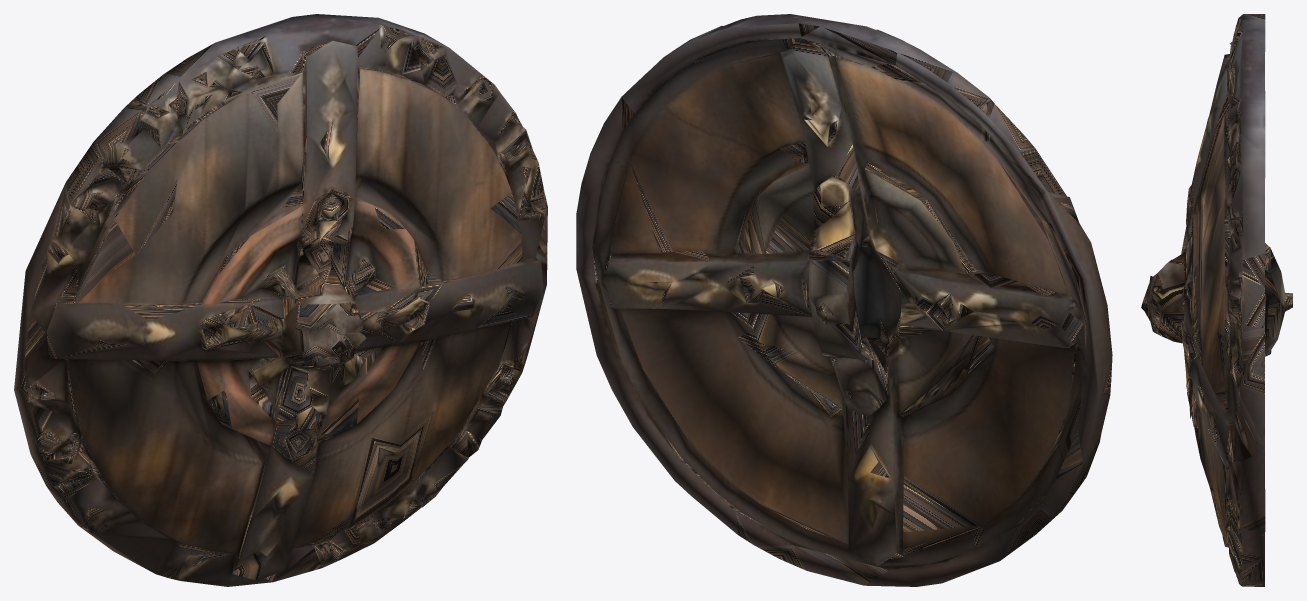
Rendered from 461_s_wood.glb.
The picture shows the model from 3 angles, left to right: view 1: azimuth 30°, elevation 25°; view 2: azimuth 150°, elevation 25°; view 3: azimuth 270°, elevation 25°; orthographic projection. The views are drawn at different scales.
Visible parts, largest first — view 1: Model; view 2: Model; view 3: Model.
Boxes of the visible parts, left/top/right/bottom form: Model: left=14, top=14, right=547, bottom=586; Model: left=576, top=14, right=1112, bottom=586; Model: left=1141, top=14, right=1292, bottom=586.
Size of the model in its own units: 0.9989 by 1 by 0.2652.
1 material, 1 textured.
